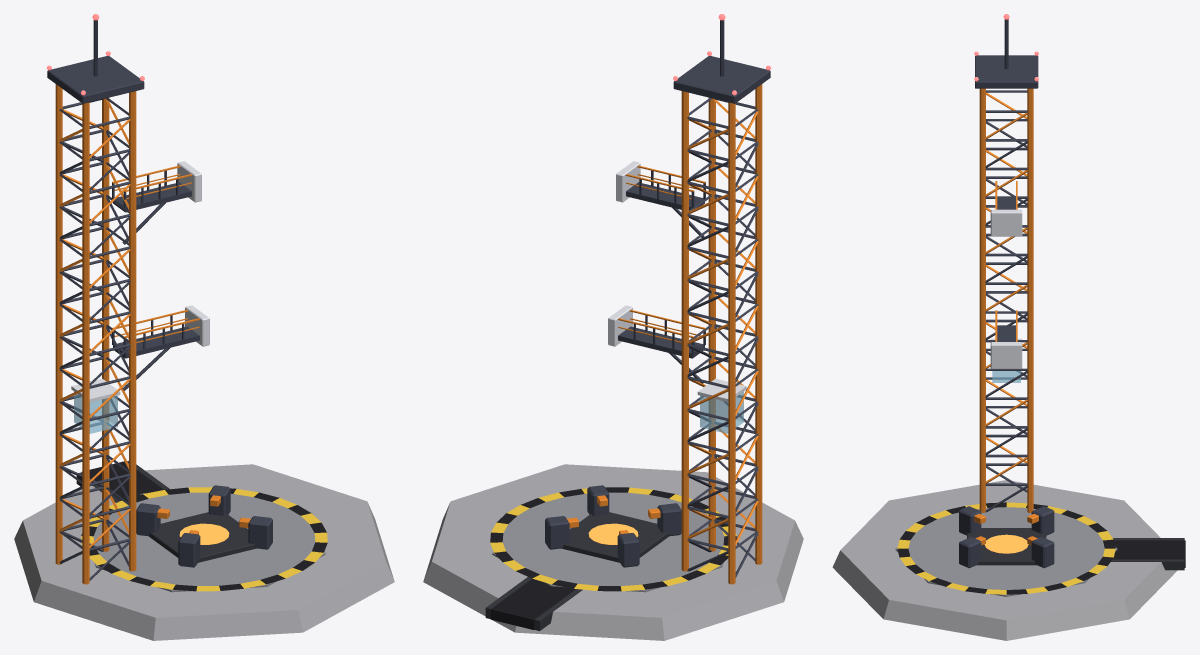
File: LaunchPad.fbx
3 views of the same model, side by side, from view 1: azimuth 30°, elevation 25°; view 2: azimuth 150°, elevation 25°; view 3: azimuth 270°, elevation 25° (orthographic). The views are drawn at different scales.
Visible parts, largest first — view 1: LaunchPad_Concrete, LaunchPad_Orange, LaunchPad_MoonDark, LaunchPad_Grey, LaunchPad_Black, LaunchPad_Charcoal, LaunchPad_Yellow, LaunchPad_MoonWhite, LaunchPad_Glass, LaunchPad_Ember; view 2: LaunchPad_Concrete, LaunchPad_Orange, LaunchPad_MoonDark, LaunchPad_Grey, LaunchPad_Black, LaunchPad_Charcoal, LaunchPad_MoonWhite, LaunchPad_Yellow, LaunchPad_Glass, LaunchPad_Ember; view 3: LaunchPad_Concrete, LaunchPad_MoonDark, LaunchPad_Grey, LaunchPad_Orange, LaunchPad_Black, LaunchPad_Charcoal, LaunchPad_MoonWhite, LaunchPad_Yellow, LaunchPad_Ember.
Part boxes in pixels (<box>): LaunchPad_Concrete: <box>14,464,394,640</box>; LaunchPad_Orange: <box>55,84,250,584</box>; LaunchPad_MoonDark: <box>47,20,272,580</box>; LaunchPad_Grey: <box>93,488,325,592</box>; LaunchPad_Black: <box>81,461,327,591</box>; LaunchPad_Charcoal: <box>76,461,256,562</box>; LaunchPad_Yellow: <box>81,487,327,591</box>; LaunchPad_MoonWhite: <box>71,161,209,402</box>; LaunchPad_Glass: <box>74,391,117,433</box>; LaunchPad_Ember: <box>179,523,229,544</box>; LaunchPad_Concrete: <box>423,464,803,640</box>; LaunchPad_Orange: <box>567,84,762,584</box>; LaunchPad_MoonDark: <box>545,20,770,577</box>; LaunchPad_Grey: <box>492,488,724,592</box>; LaunchPad_Black: <box>490,487,736,629</box>; LaunchPad_Charcoal: <box>485,512,669,630</box>; LaunchPad_MoonWhite: <box>608,161,746,402</box>; LaunchPad_Yellow: <box>490,487,736,591</box>; LaunchPad_Glass: <box>700,391,743,433</box>; LaunchPad_Ember: <box>588,523,638,544</box>; LaunchPad_Concrete: <box>832,480,1177,640</box>; LaunchPad_MoonDark: <box>959,19,1054,568</box>; LaunchPad_Grey: <box>895,502,1117,596</box>; LaunchPad_Orange: <box>974,88,1038,545</box>; LaunchPad_Black: <box>897,502,1185,594</box>; LaunchPad_Charcoal: <box>967,528,1184,570</box>; LaunchPad_MoonWhite: <box>990,209,1022,368</box>; LaunchPad_Yellow: <box>897,502,1115,594</box>; LaunchPad_Ember: <box>984,534,1028,553</box>.
Bounding box in the file's own units: 44 × 70.6 × 44.6.
